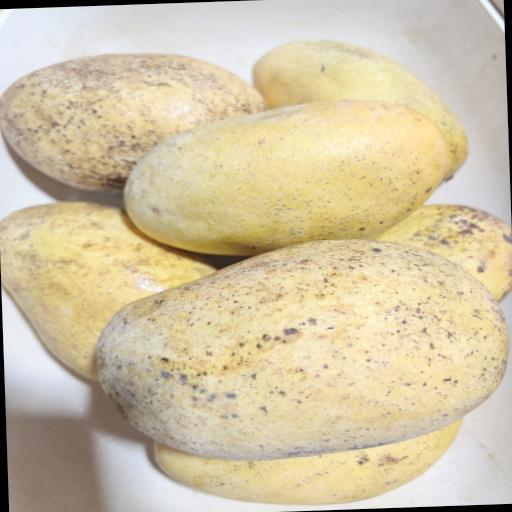fruit: (69, 223, 512, 462), (123, 84, 461, 262), (0, 24, 270, 196), (0, 180, 230, 381), (135, 392, 478, 512), (248, 18, 476, 184), (361, 191, 512, 315)
